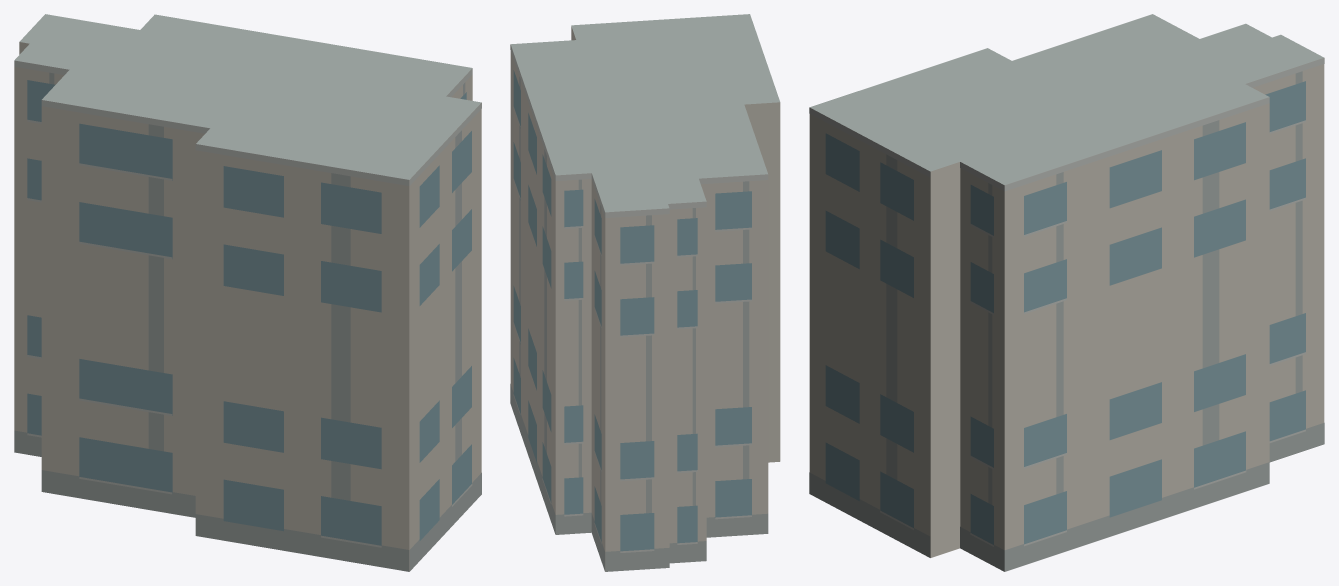
Rendered from survey-upis-32622868.glb.
3 views of the same model, side by side, from view 1: azimuth 30°, elevation 25°; view 2: azimuth 150°, elevation 25°; view 3: azimuth 270°, elevation 25° (orthographic). The views are drawn at different scales.
Visible parts, largest first — view 1: survey-upis-32622868.tmp; view 2: survey-upis-32622868.tmp; view 3: survey-upis-32622868.tmp.
Part boxes in pixels (x1,y1,x2,y2): survey-upis-32622868.tmp: (14,14,481,571); survey-upis-32622868.tmp: (510,14,780,571); survey-upis-32622868.tmp: (809,14,1324,571).
Size of the model in its own units: 14.51 by 15.25 by 18.42.
